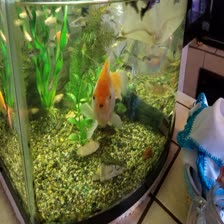Cuezo: (78, 55, 129, 142)
Guppy: (67, 13, 91, 28)
